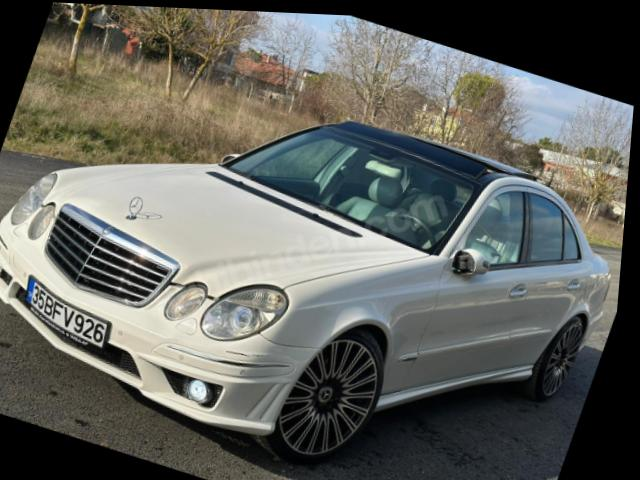plaka: (25, 277, 108, 347)
